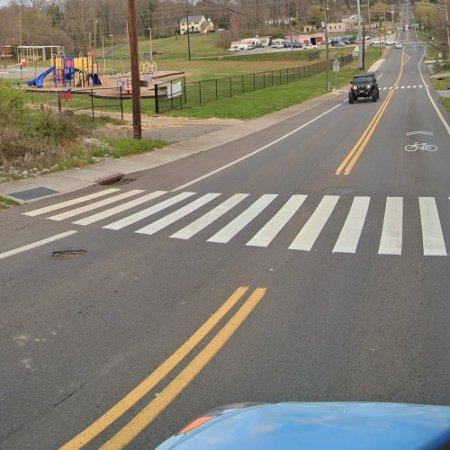crosswalks: (16, 186, 448, 256)
